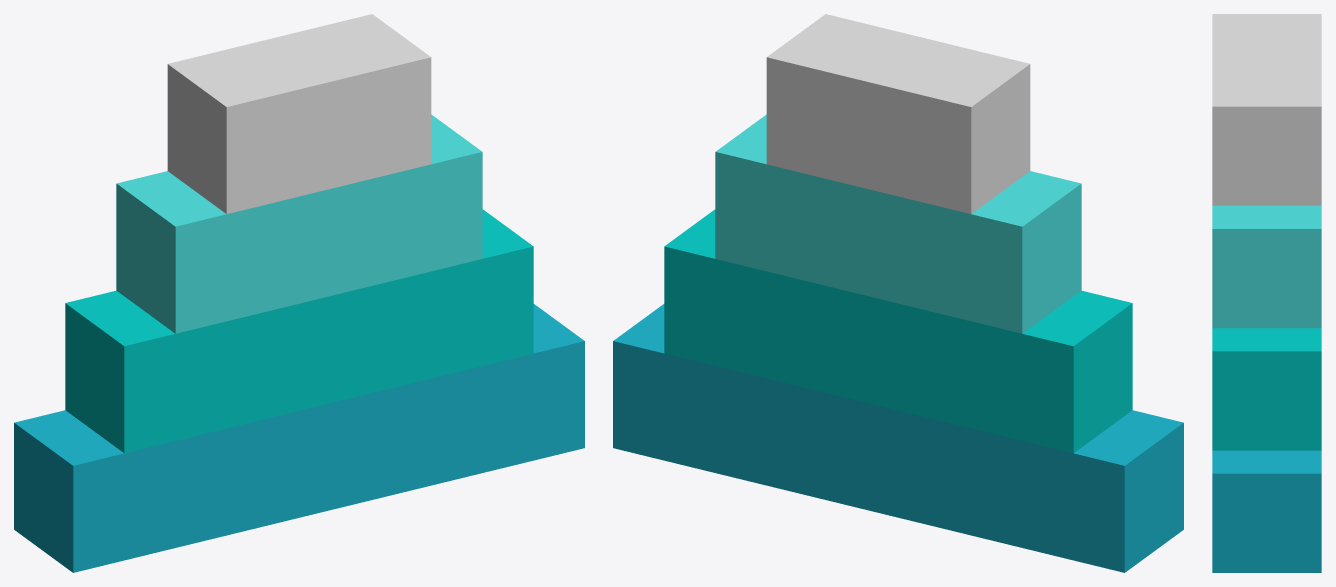
3 views of the same model, side by side, from view 1: azimuth 30°, elevation 25°; view 2: azimuth 150°, elevation 25°; view 3: azimuth 270°, elevation 25° (orthographic). The views are drawn at different scales.
Parts seen in each view (by area): view 1: Cube, Cube.001, Cube.002, Cube.003; view 2: Cube, Cube.001, Cube.002, Cube.003; view 3: Cube.003, Cube.002, Cube.001, Cube.
Part boxes in pixels (left/top/right/bottom): Cube: left=14, top=304, right=584, bottom=572; Cube.001: left=65, top=209, right=533, bottom=453; Cube.002: left=116, top=114, right=482, bottom=333; Cube.003: left=167, top=14, right=431, bottom=213; Cube: left=613, top=304, right=1183, bottom=572; Cube.001: left=664, top=209, right=1132, bottom=453; Cube.002: left=715, top=114, right=1081, bottom=333; Cube.003: left=766, top=14, right=1030, bottom=213; Cube.003: left=1212, top=14, right=1321, bottom=205; Cube.002: left=1212, top=205, right=1321, bottom=328; Cube.001: left=1212, top=328, right=1321, bottom=450; Cube: left=1212, top=450, right=1321, bottom=572.
Bounding box in the file's own units: 200 × 40 × 160.
